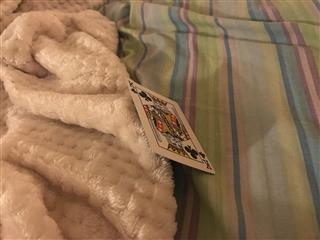KingOfClubs: (126, 76, 217, 175)
